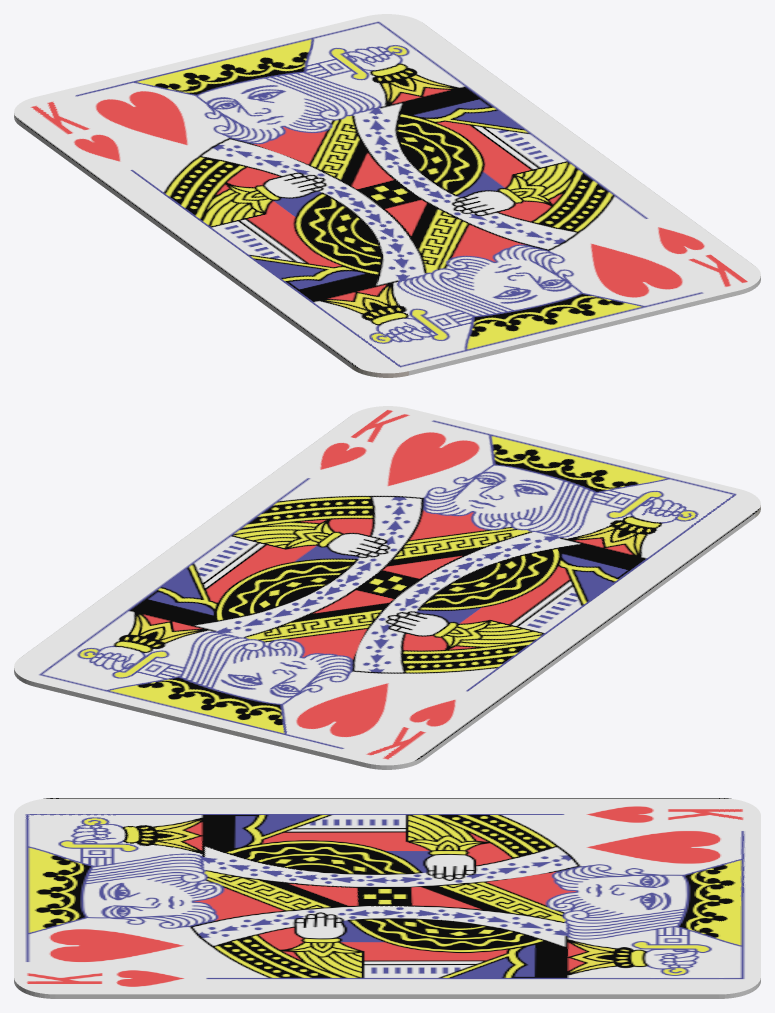
The model's file is king of hearts.fbx.
3 views of the same model, one above another, from view 1: azimuth 30°, elevation 25°; view 2: azimuth 150°, elevation 25°; view 3: azimuth 270°, elevation 25° (orthographic).
Visible parts, largest first — view 1: Cube; view 2: Cube; view 3: Cube.
Part boxes in pixels (<box>): Cube: <box>14,14,760,377</box>; Cube: <box>14,406,760,769</box>; Cube: <box>14,798,760,998</box>.
Bounding box in the file's own units: 5.6 × 0.06 × 9.
Materials: 3 (2 with a texture image).
